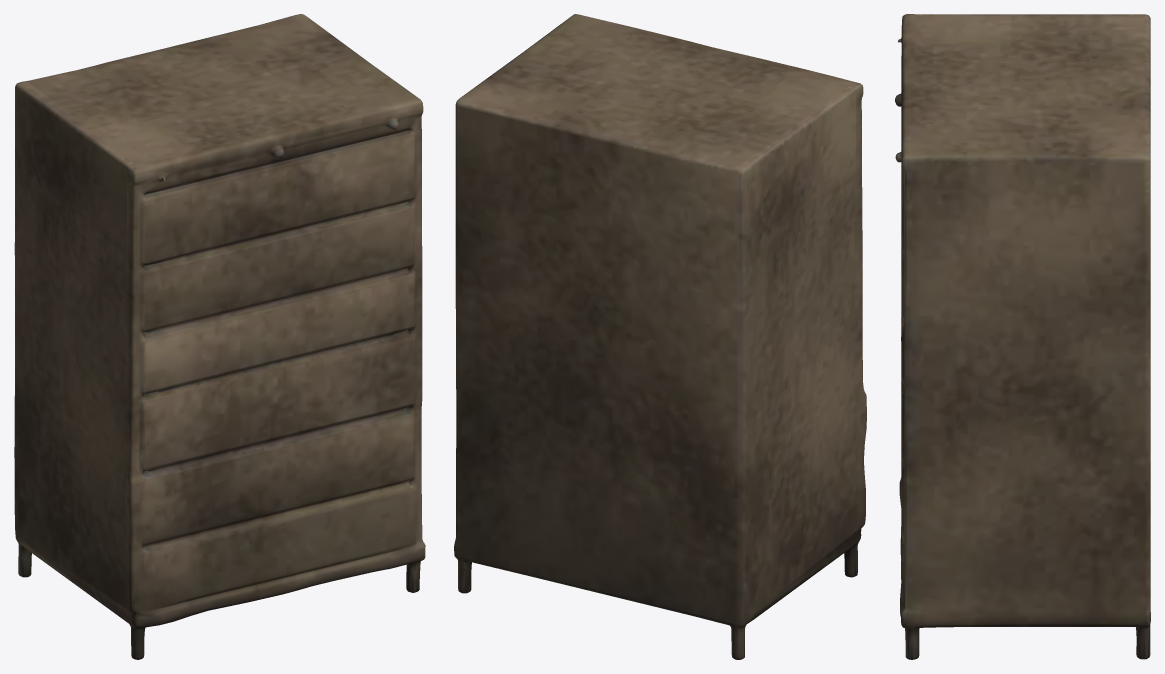
File: plain-wood-filing-cabinet-v001.glb
3 renders of one model, left to right at view 1: azimuth 30°, elevation 25°; view 2: azimuth 150°, elevation 25°; view 3: azimuth 270°, elevation 25°, orthographic. The views are drawn at different scales.
Visible parts, largest first — view 1: plain-wood-filing-cabinet; view 2: plain-wood-filing-cabinet; view 3: plain-wood-filing-cabinet.
Part boxes in pixels (left/top/right/bottom): plain-wood-filing-cabinet: left=14, top=14, right=425, bottom=659; plain-wood-filing-cabinet: left=454, top=14, right=866, bottom=659; plain-wood-filing-cabinet: left=895, top=14, right=1150, bottom=659.
Size of the model in its own units: 0.771 by 1.23 by 0.5652.
1 material, 1 textured.
